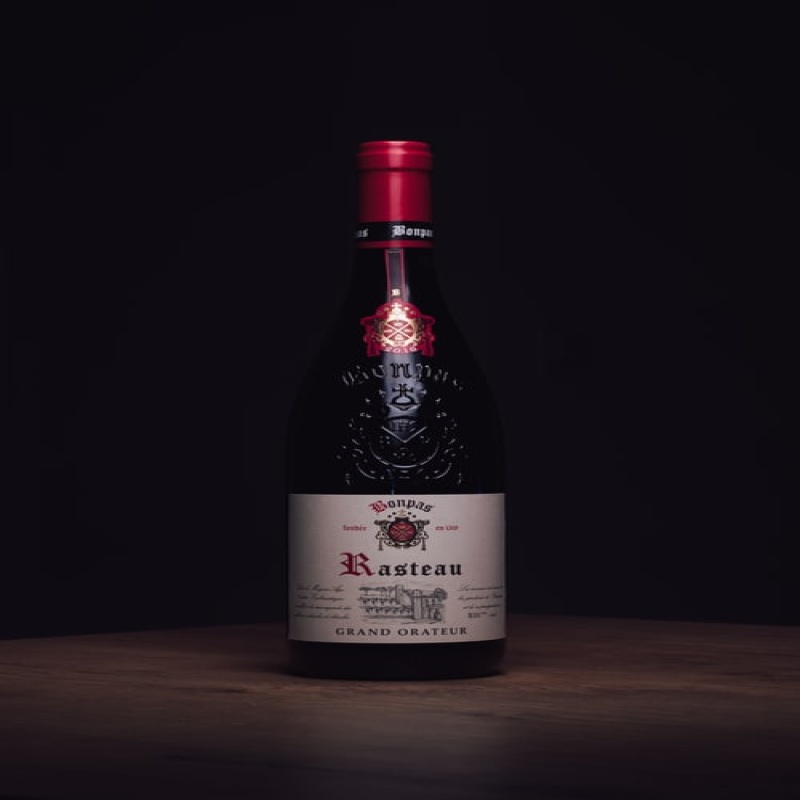wine: (281, 132, 506, 670)
